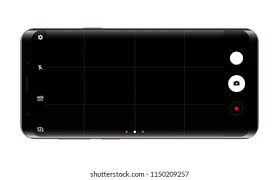camera: (225, 74, 247, 93)
